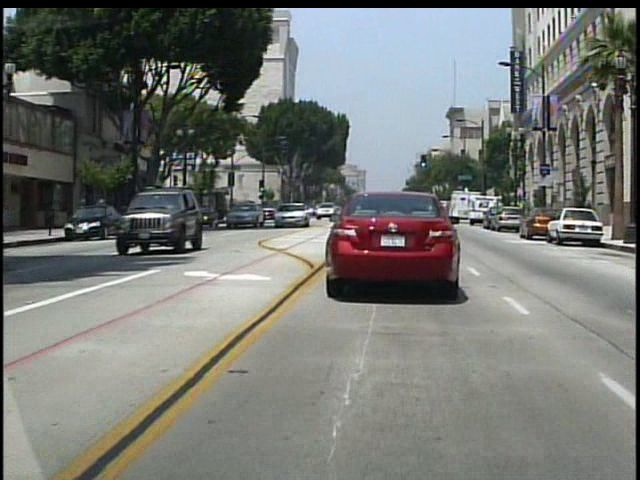person: (98, 193, 112, 226)
